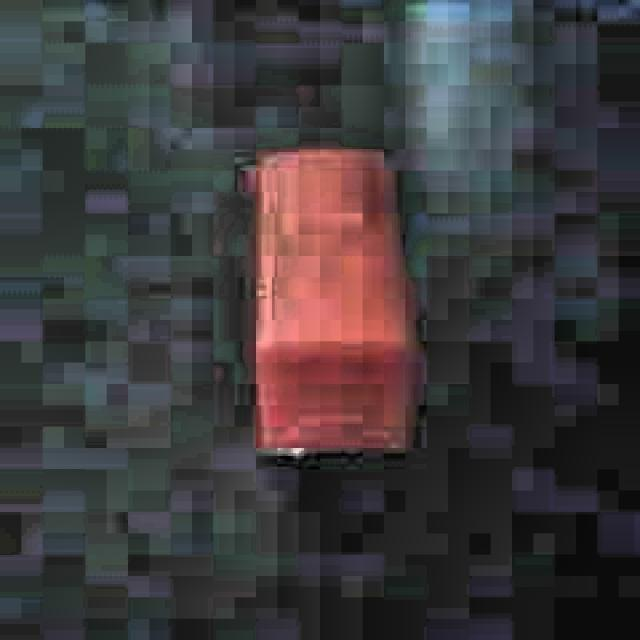bus: (234, 136, 420, 466)
